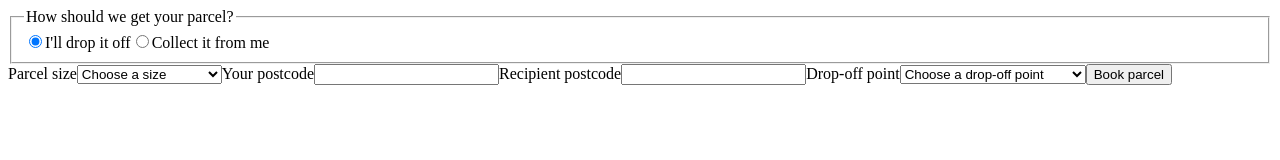
it: BookingForm › asks for a collection date instead of a drop-off point for collections
The width and height of the screenshot is (1280, 160).
Click the radio button labelled "Collect it from me".
click(142, 41)  # box [136,35,149,48]
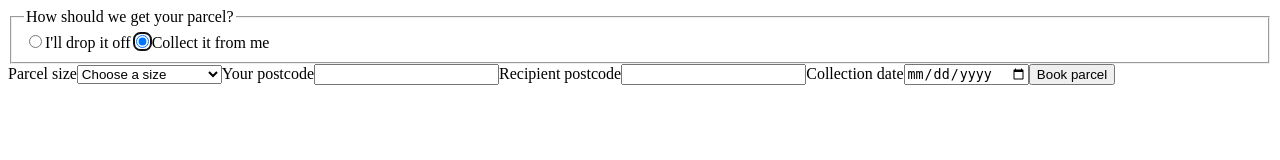
Check: the date field labelled "Collection date" is shown, box [904,64,1029,85]
Check: the label labelled "Drop-off point" is gone
